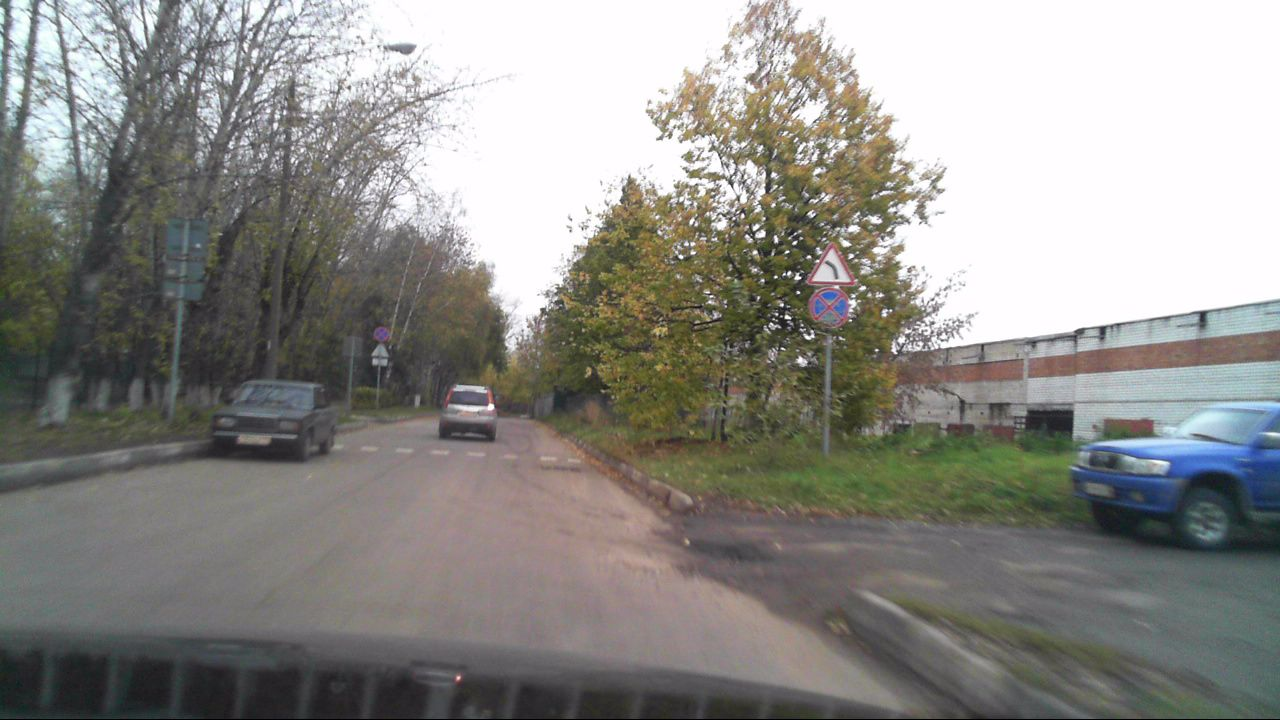No Parking: (807, 287, 851, 327)
